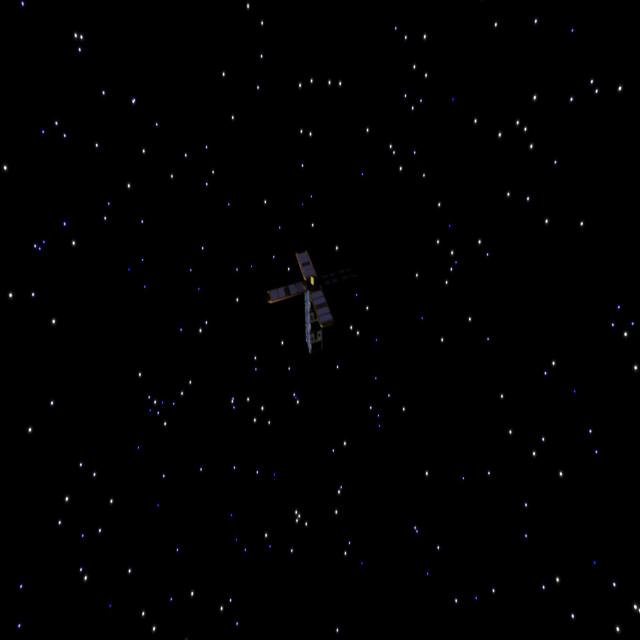medium_debris: (266, 241, 346, 361)
